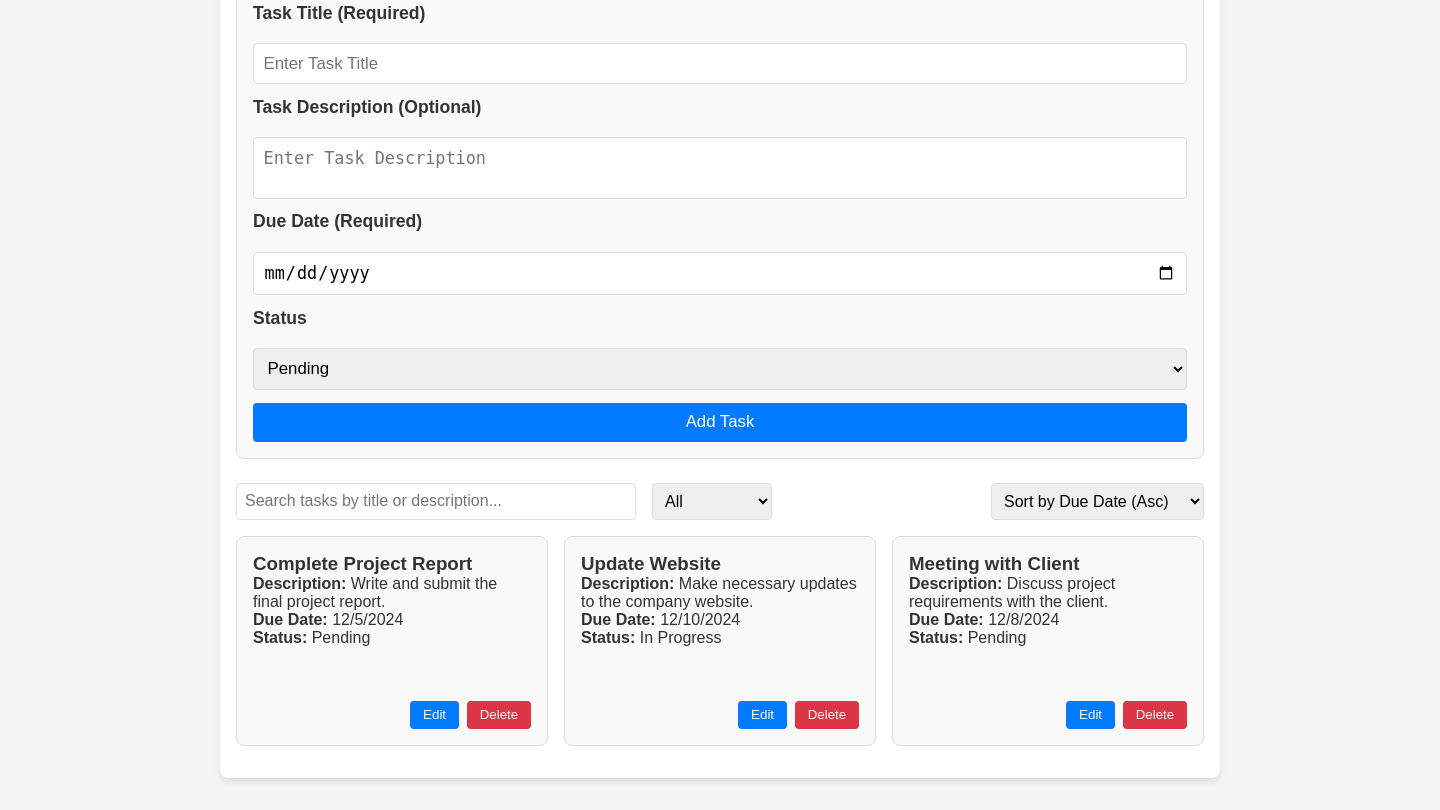
App Component › deletes task on confirm
(page scrolled)
Click the button "Delete" below "12/5/2024" at (499, 715), box [467,701,531,729]
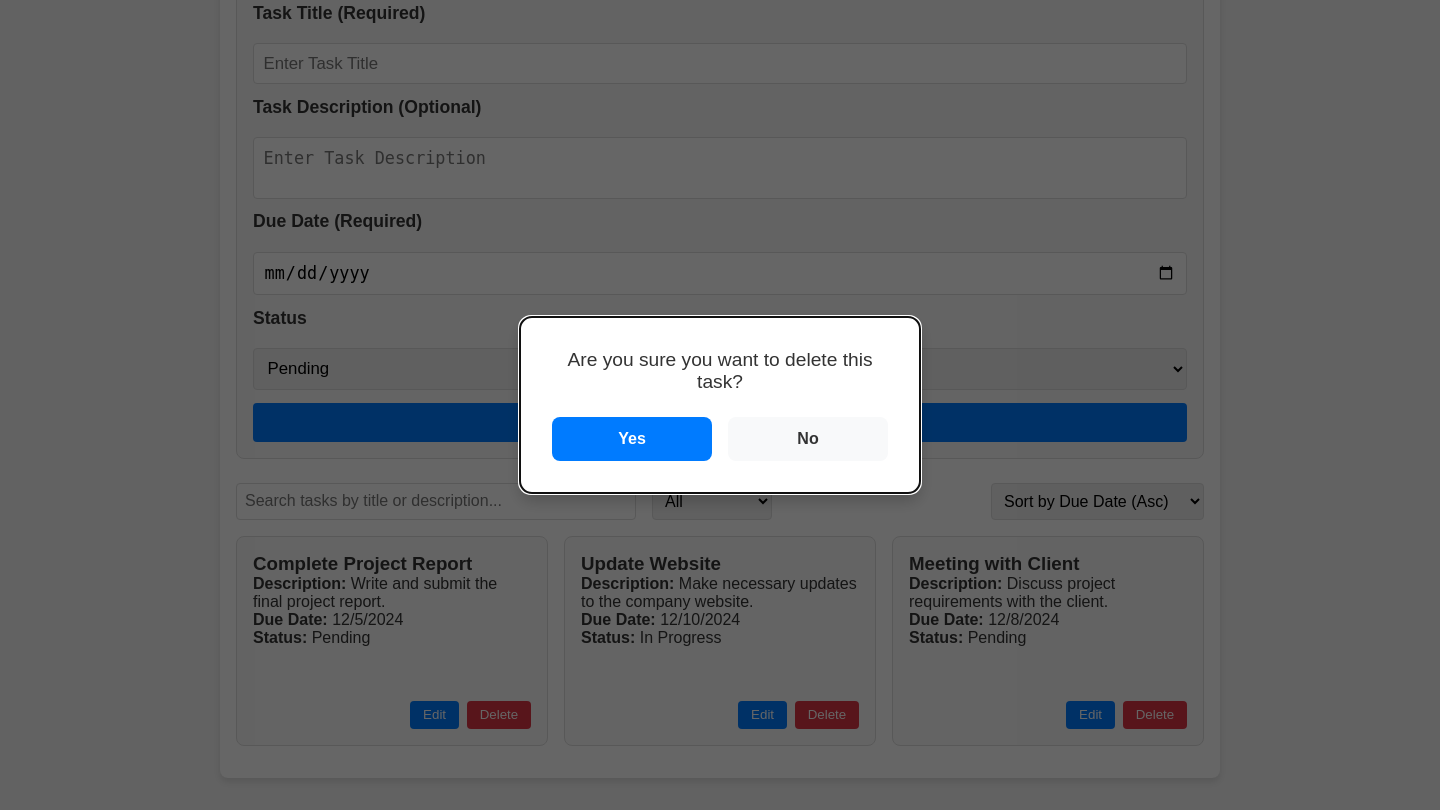
Click the button "Yes" at (632, 439), box [552,417,712,461]
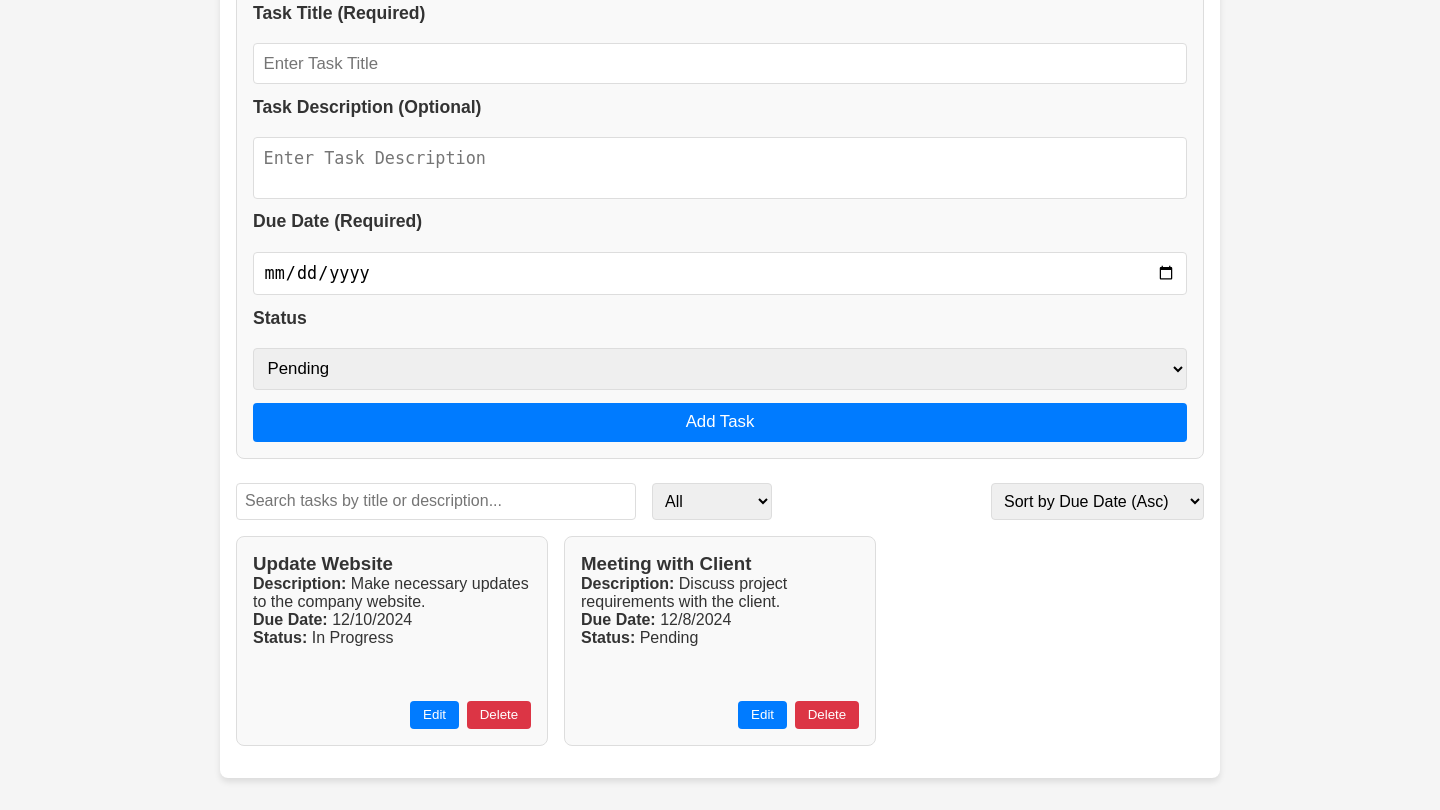
Expected: the heading "Complete Project Report" is gone
